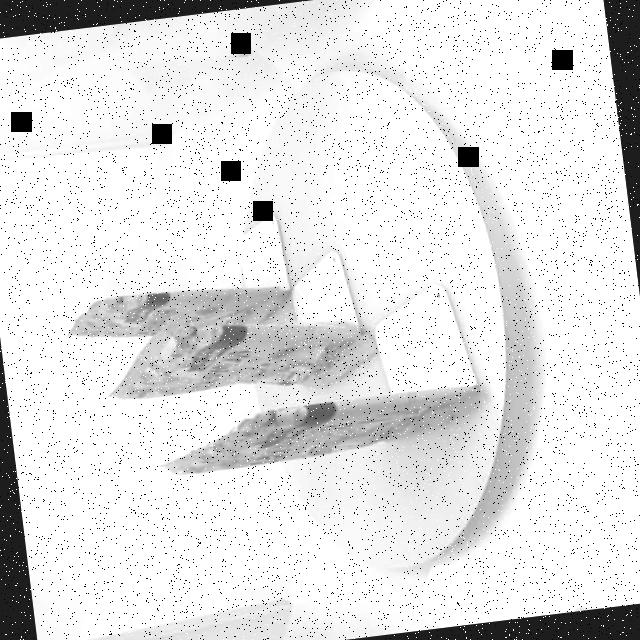snack_bag: (47, 232, 517, 524)
